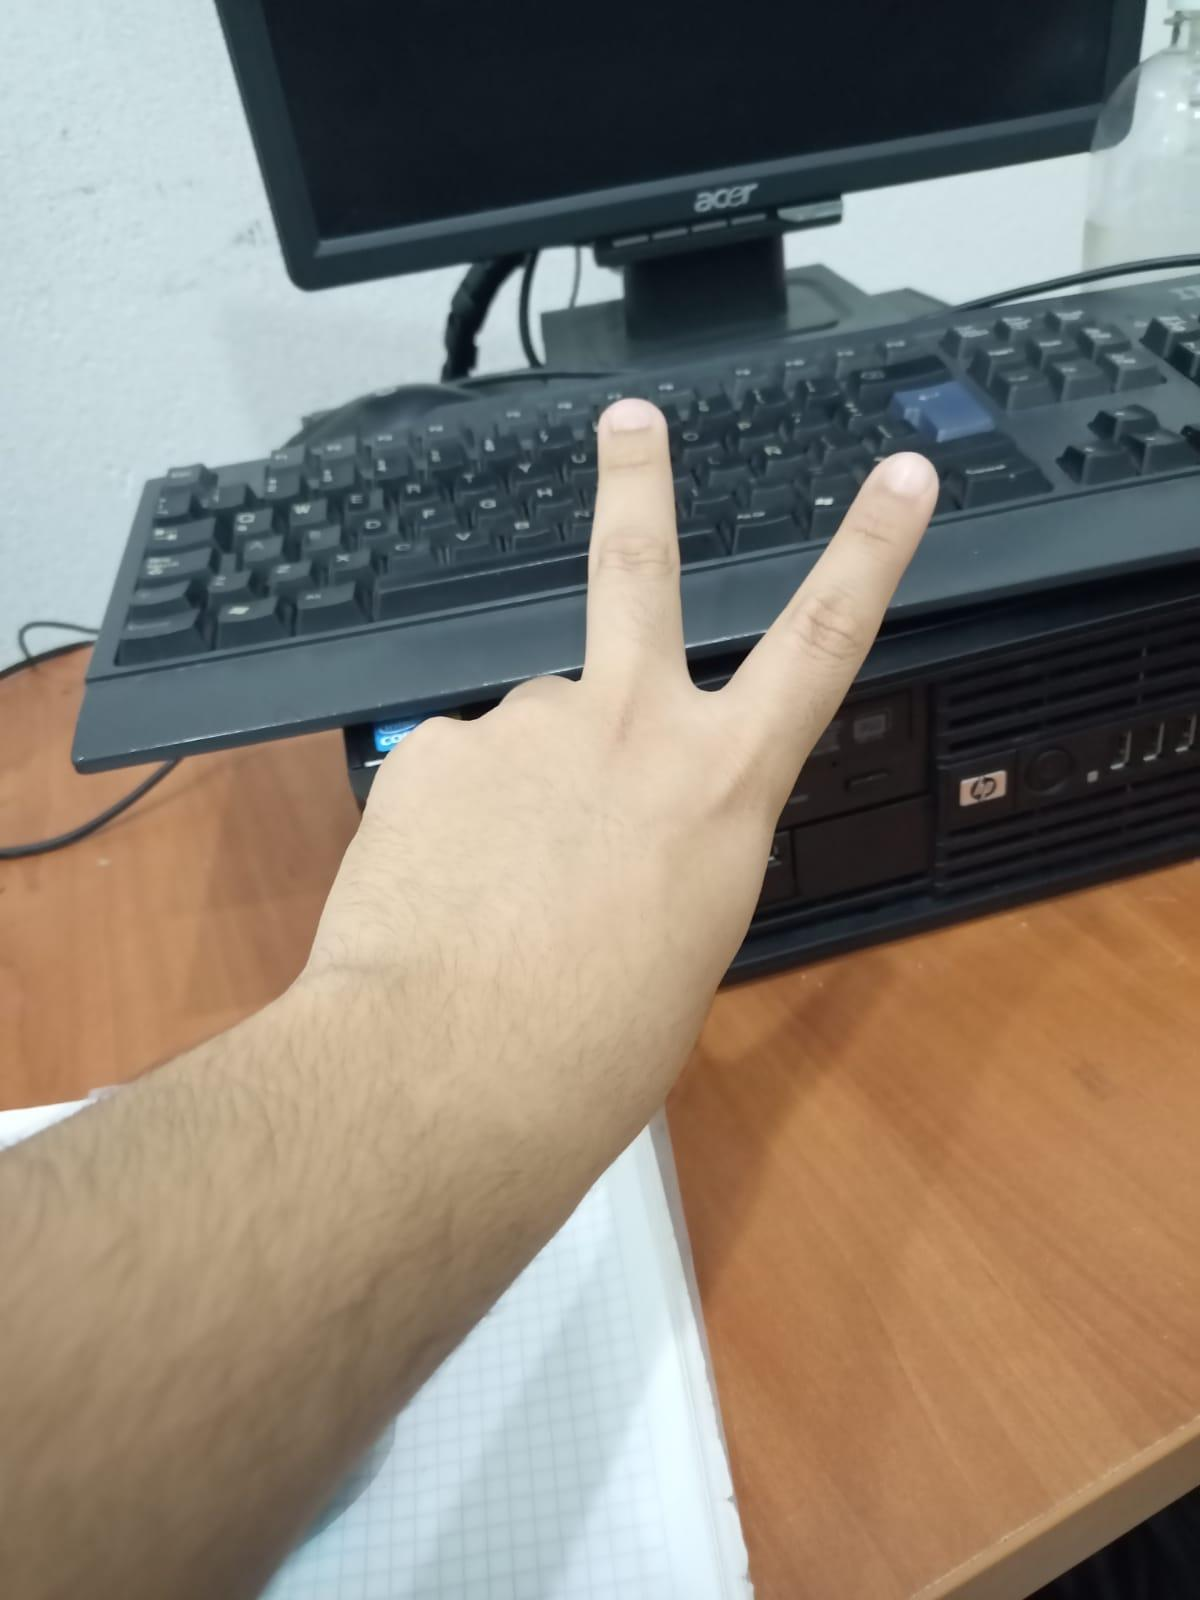Scissor: (230, 352, 1030, 1134)
